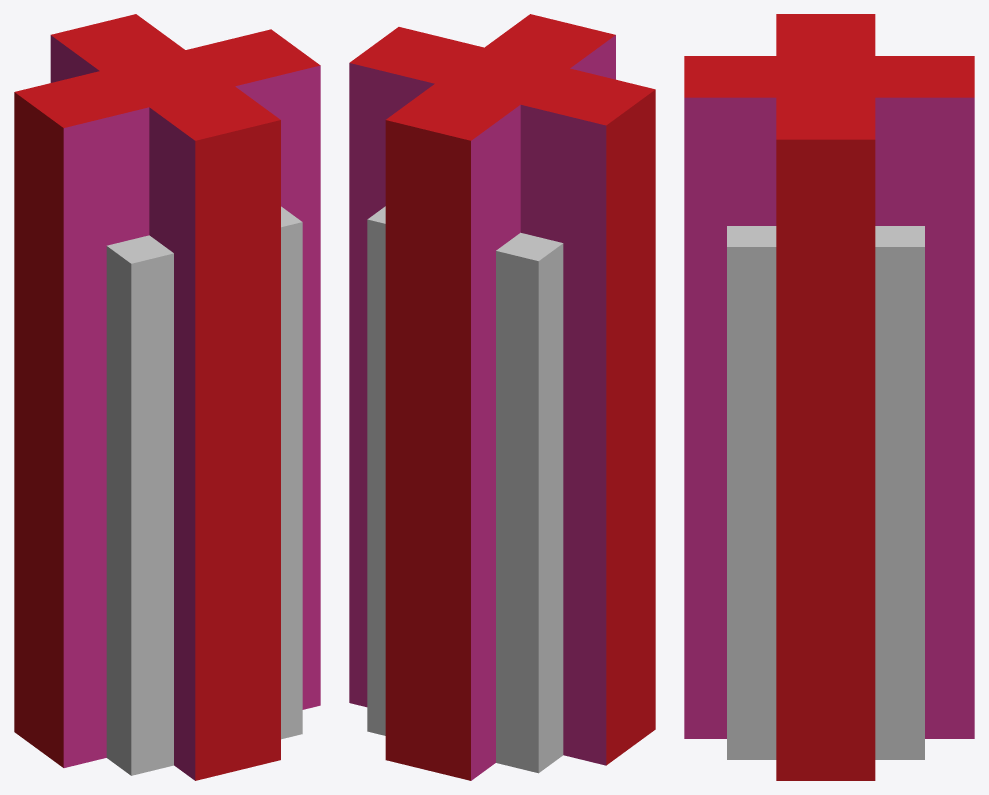
The model's file is healthTower.fbx.
3 views of the same model, side by side, from view 1: azimuth 30°, elevation 25°; view 2: azimuth 150°, elevation 25°; view 3: azimuth 270°, elevation 25° (orthographic).
Visible parts, largest first — view 1: Cube; view 2: Cube; view 3: Cube.
Part boxes in pixels (left/top/right/bottom): Cube: left=14, top=14, right=320, bottom=780; Cube: left=349, top=14, right=655, bottom=780; Cube: left=684, top=14, right=974, bottom=780.
Size of the model in its own units: 105 by 250 by 102.
